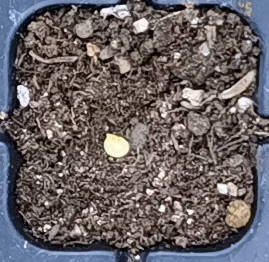pepper seed: (37, 53, 167, 211)
